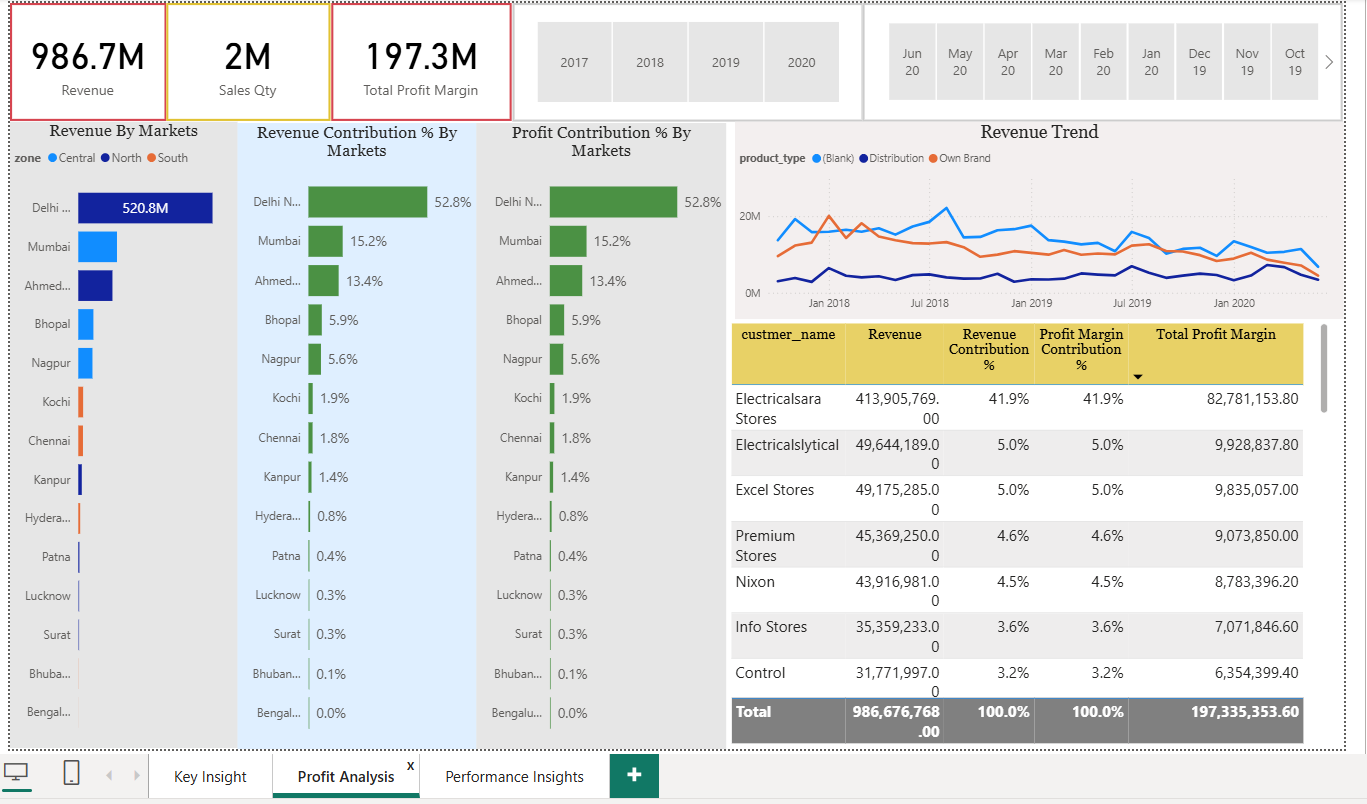

This screenshot's page, from the dashboard's own definition file:
{"tool":"powerbi","page":{"name":"Profit Analysis","canvas":[1520,850],"ordinal":1},"visuals":[{"type":"card","fields":{"Values":["base measures.Revenue"]},"box":[0,0,178.5,134.3],"z":0},{"type":"barChart","title":"Revenue By Markets","fields":{"Category":["sales markets.markets_name"],"Y":["base measures.Revenue"],"Series":["sales markets.zone"]},"box":[0,135.1,247.4,714],"z":1000},{"type":"slicer","fields":{"Values":["sales date.year"]},"box":[571.9,0,400,135.1],"z":2000},{"type":"slicer","fields":{"Values":["sales date.cy_date"]},"box":[971.9,0,547.4,135.1],"z":3000},{"type":"tableEx","title":"Top 5 Customers","fields":{"Values":["sales customers.custmer_name","base measures.Revenue","base measures.Revenue Contribution %","base measures.Profit Margin Contribution %","base measures.Total Profit Margin"]},"box":[815.8,359.6,703.5,489.5],"z":4000},{"type":"lineChart","title":"Revenue Trend","fields":{"Y":["base measures.Revenue"],"Category":["sales date.cy_date"],"Series":["sales products.product_type"]},"box":[815.8,135.1,703.5,224.6],"z":5000},{"type":"card","fields":{"Values":["base measures.Total Profit Margin"]},"box":[365.5,0,205.7,134.3],"z":6000},{"type":"card","fields":{"Values":["base measures.Sales Qty"]},"box":[178.5,0,187,134.3],"z":7000},{"type":"barChart","title":"Profit Contribution % By Markets","fields":{"Y":["base measures.Profit Margin Contribution %"],"Category":["sales markets.markets_name"]},"box":[531.6,136.8,284.2,714],"z":8000},{"type":"barChart","title":"Revenue Contribution % By Markets","fields":{"Category":["sales markets.markets_name"],"Y":["base measures.Revenue Contribution %"]},"box":[286,136.8,245.6,714],"z":9000}]}

Visuals, with their boxes on the page's 1520x850 design canvas (x1, y1, x2, y2). These are canvas units, not pixel positions in the 1367x804 screenshot, which may show the page scaled, cropped or inside an application window:
card - base measures.Revenue: x1=0, y1=0, x2=178, y2=134
"Revenue By Markets" barChart: x1=0, y1=135, x2=247, y2=849
slicer - sales date.year: x1=572, y1=0, x2=972, y2=135
slicer - sales date.cy_date: x1=972, y1=0, x2=1519, y2=135
"Top 5 Customers" tableEx: x1=816, y1=360, x2=1519, y2=849
"Revenue Trend" lineChart: x1=816, y1=135, x2=1519, y2=360
card - base measures.Total Profit Margin: x1=366, y1=0, x2=571, y2=134
card - base measures.Sales Qty: x1=178, y1=0, x2=366, y2=134
"Profit Contribution % By Markets" barChart: x1=532, y1=137, x2=816, y2=851
"Revenue Contribution % By Markets" barChart: x1=286, y1=137, x2=532, y2=851
